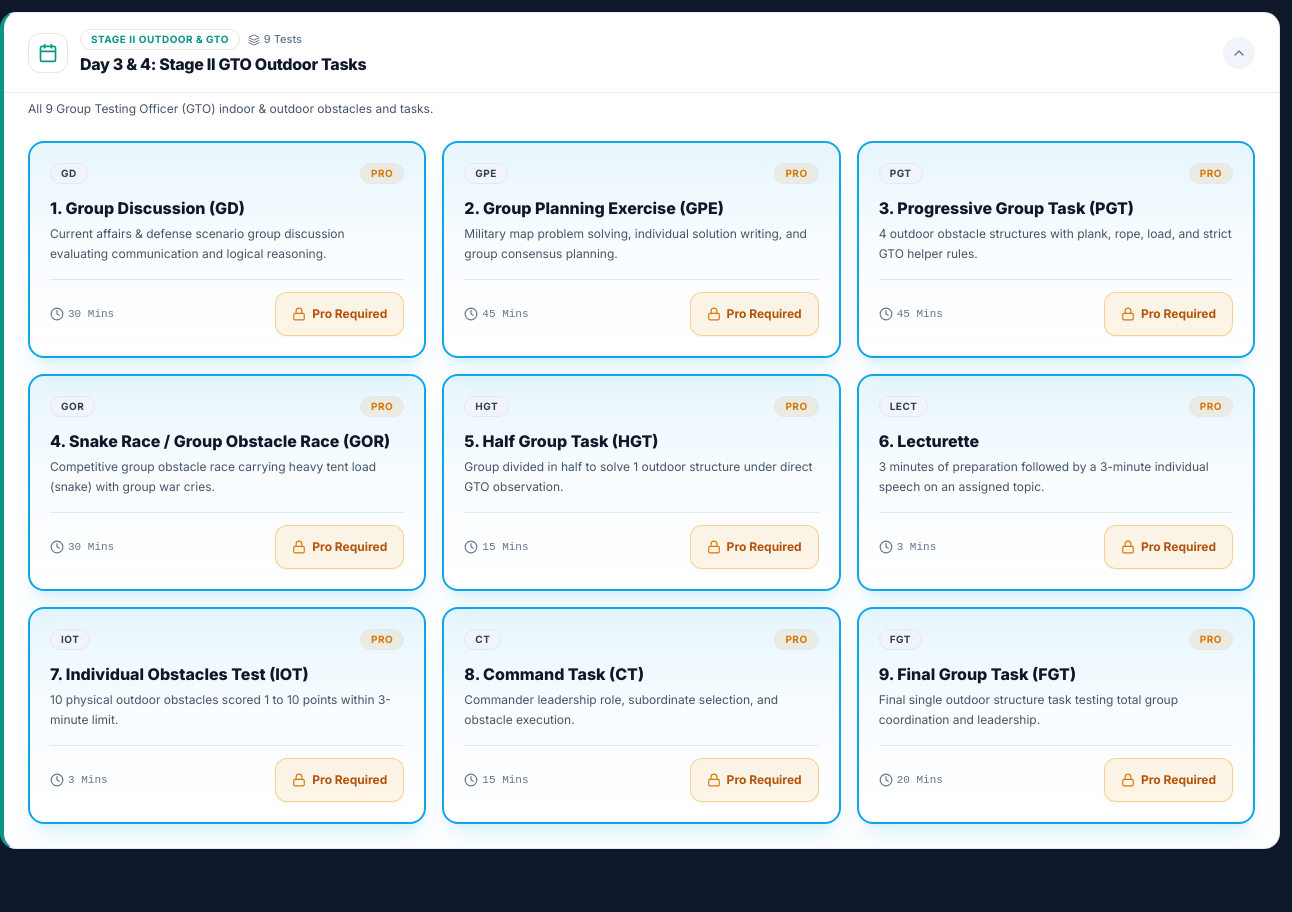
TestDayAccordion Component › should toggle accordion expanded state and collapse content when header is clicked
Click the button with test id "accordion-toggle-3-4".
click(48, 52)  # box [4,13,1279,92]
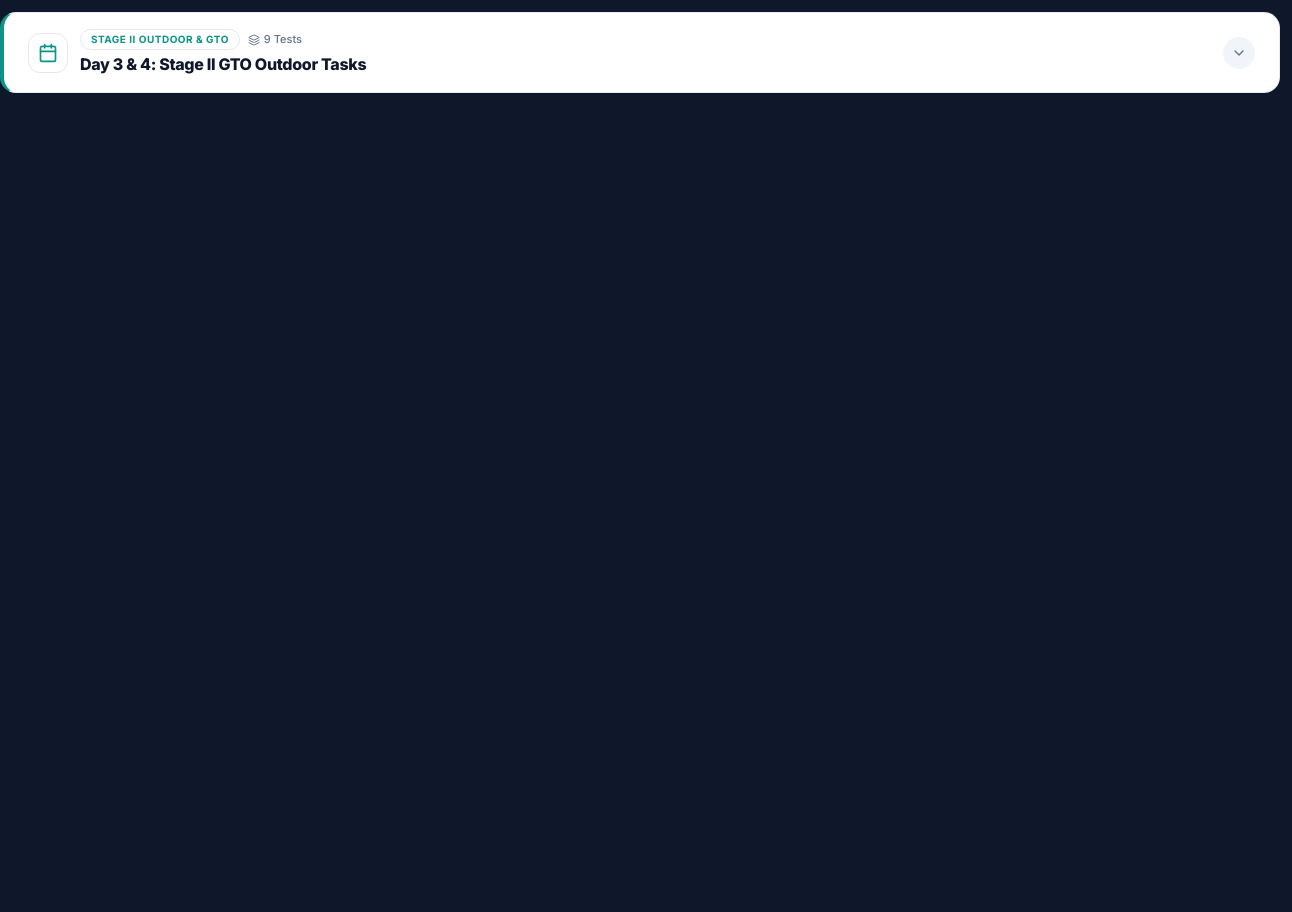
expect the button with test id "accordion-toggle-3-4" is collapsed: met, box [4,13,1279,92]
expect the element with test id "accordion-content-3-4" is gone: met
